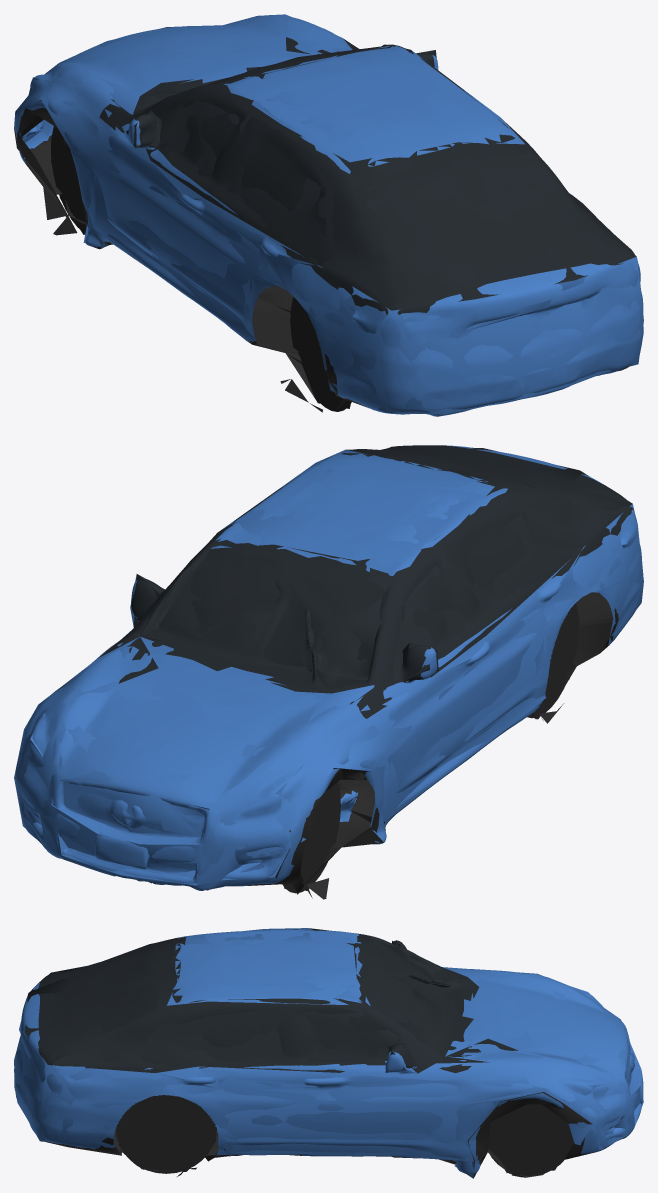
File: infiniti-q70.glb
3 renders of one model, top to bottom at view 1: azimuth 30°, elevation 25°; view 2: azimuth 150°, elevation 25°; view 3: azimuth 270°, elevation 25°, orthographic. The views are drawn at different scales.
Parts seen in each view (by area): view 1: body, far; view 2: body, far; view 3: body, far.
Part boxes in pixels (left/top/right/bottom): body: left=14, top=15, right=643, bottom=416; far: left=14, top=14, right=643, bottom=414; body: left=15, top=445, right=643, bottom=899; far: left=14, top=446, right=643, bottom=898; body: left=14, top=929, right=643, bottom=1177; far: left=14, top=928, right=643, bottom=1178.
Bounding box in the file's own units: 2.13 × 1.59 × 5.08.
